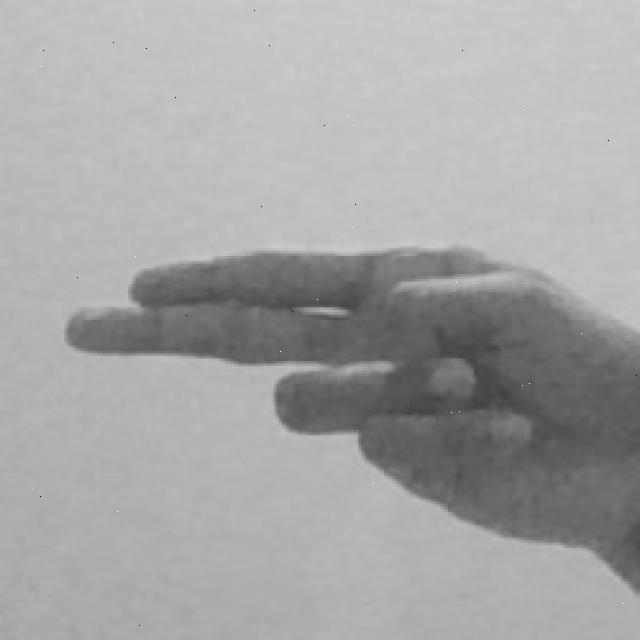H: (54, 231, 640, 604)
